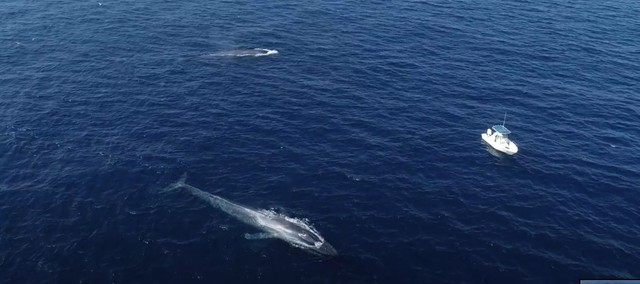whale: (149, 165, 357, 271), (186, 39, 288, 65)
